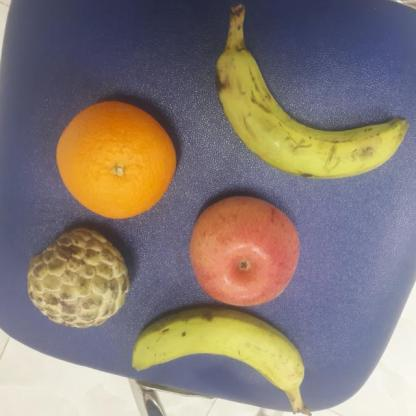annona: (28, 229, 130, 330)
apple: (190, 196, 300, 308)
banana: (215, 4, 410, 180), (128, 308, 313, 416)
orange: (58, 100, 177, 219)
